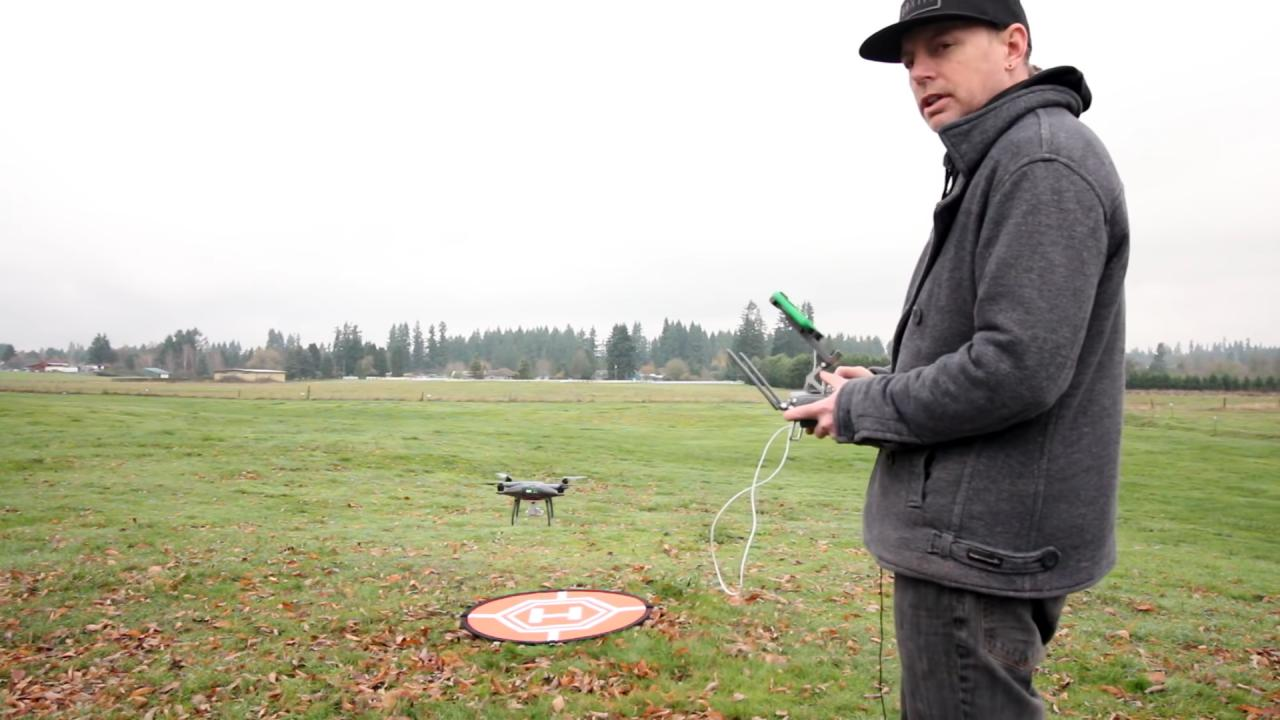Drone: (475, 462, 598, 534)
